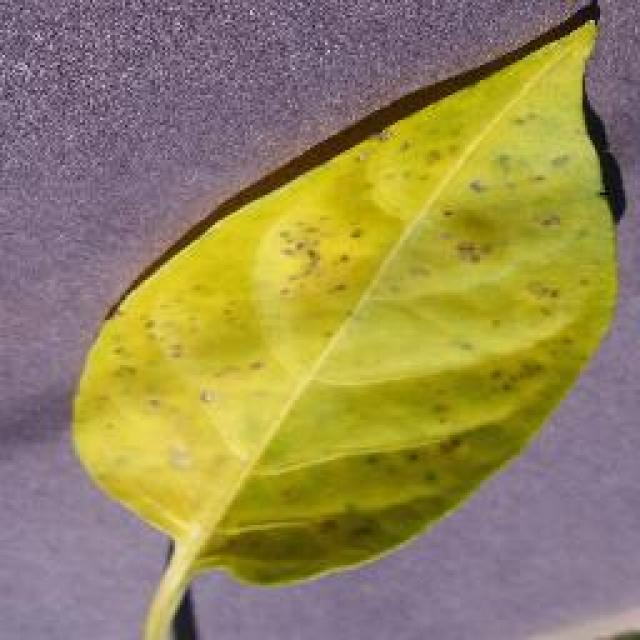Chilli_Bacterial_Spot: (65, 2, 623, 628), (262, 110, 578, 332), (270, 210, 368, 305), (365, 162, 413, 222), (160, 438, 198, 478), (450, 235, 488, 267), (192, 382, 220, 410)
